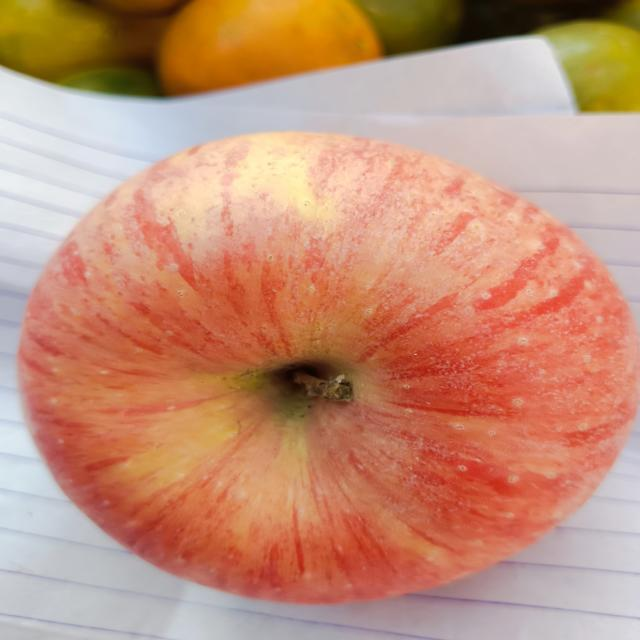Fresh Apple: (18, 138, 640, 601)
